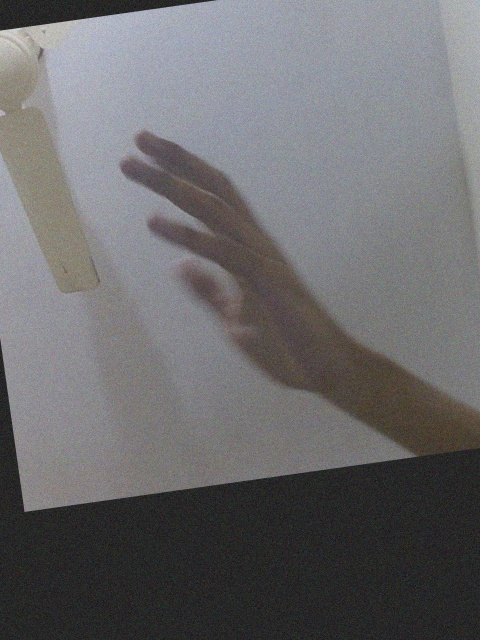hand: (111, 120, 358, 422)
